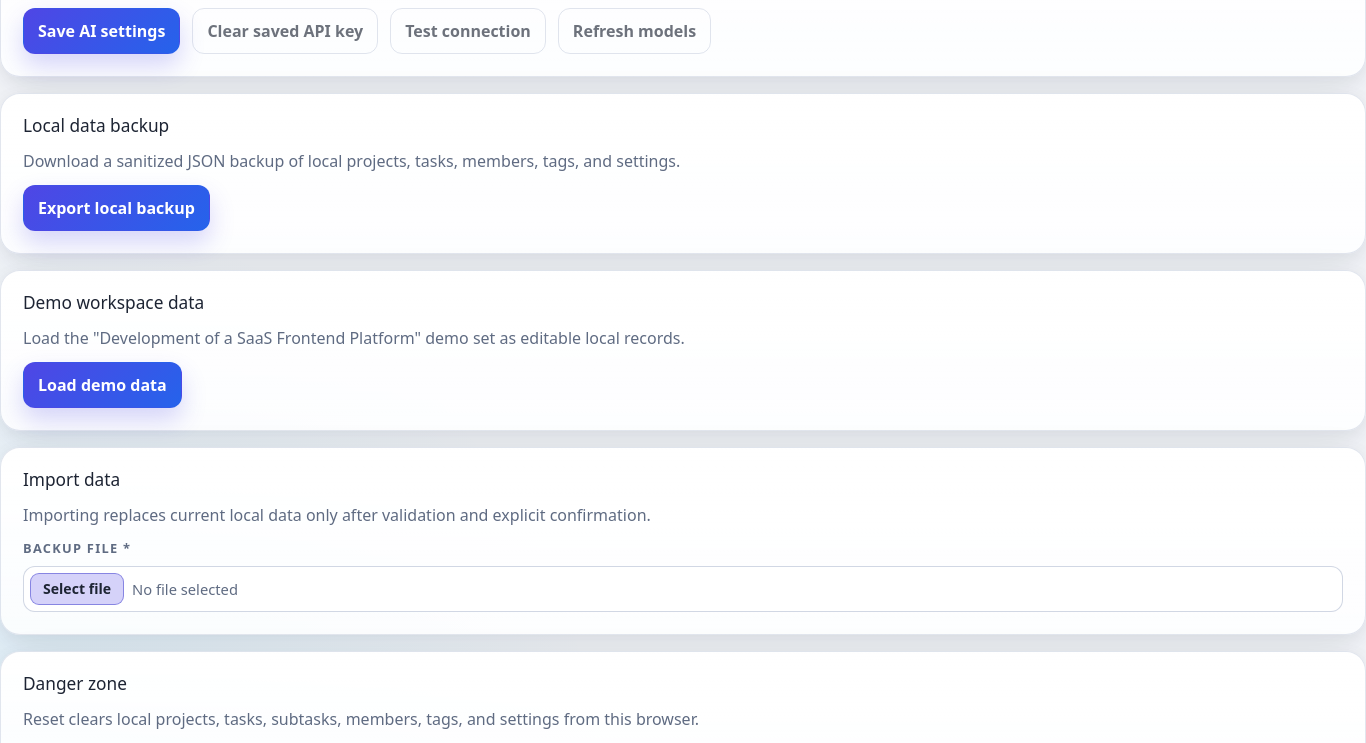
Test: SettingsPage › asks confirmation before replacing existing local data with demo data and keeps data unchanged on cancel
(page scrolled)
Click the button "Load demo data" at (102, 385), box left=23, top=362, right=182, bottom=408
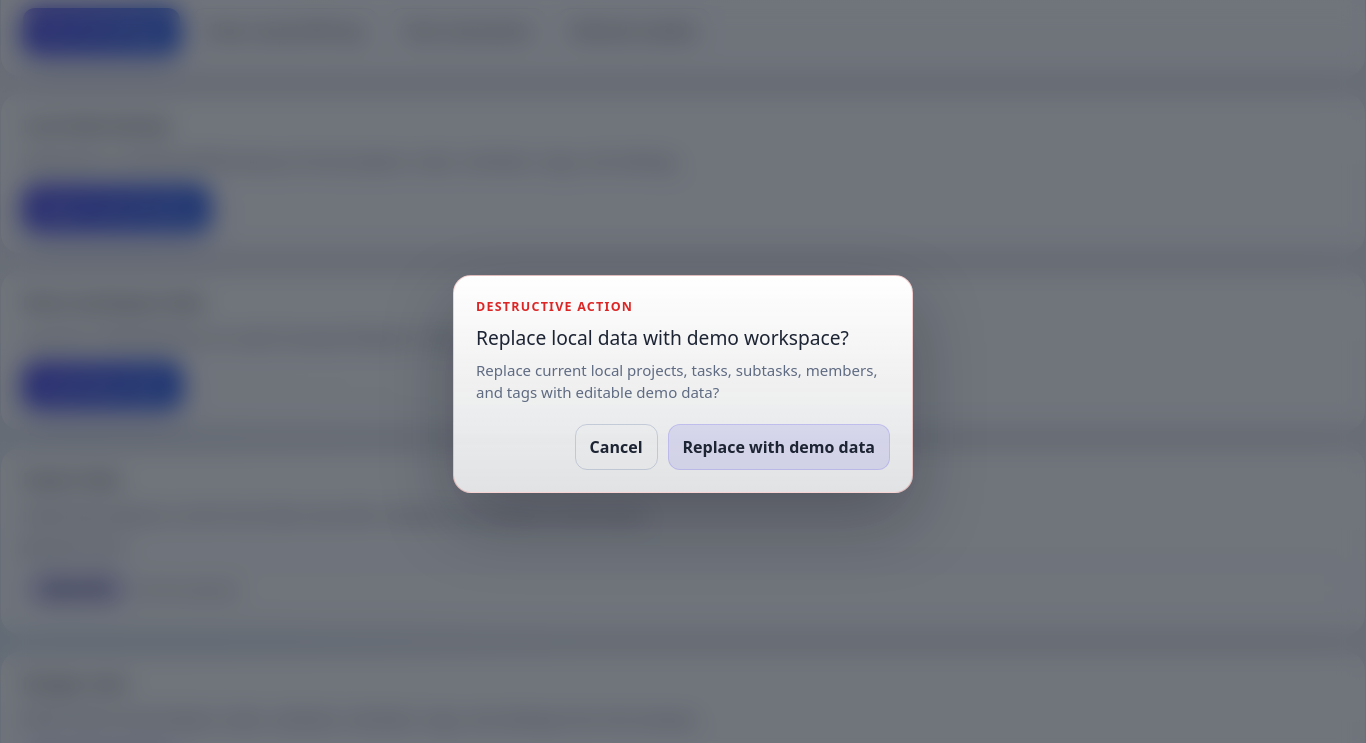
Check: the heading "Replace local data with demo workspace?" is shown, box left=476, top=327, right=890, bottom=349
Click the button "Cancel" at (616, 447), box left=575, top=424, right=658, bottom=470
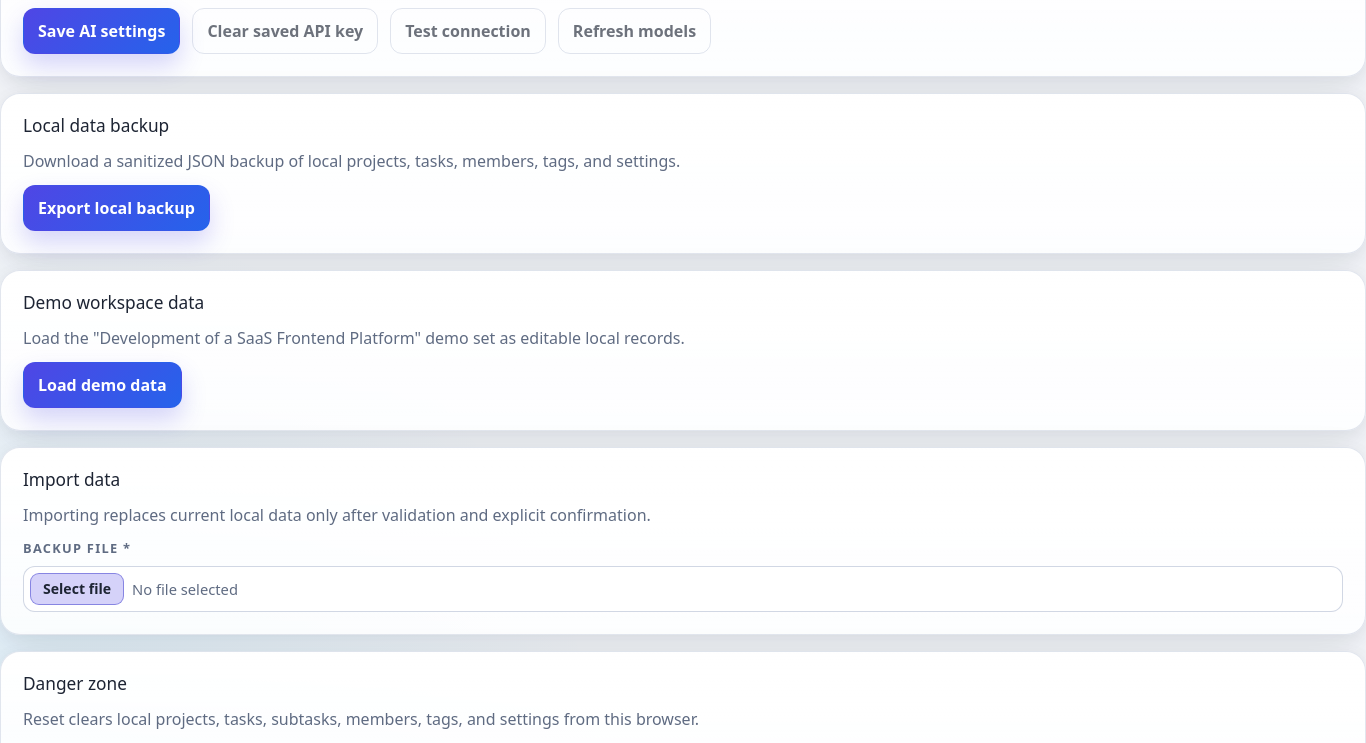
Check: the heading "Replace local data with demo workspace?" is gone
